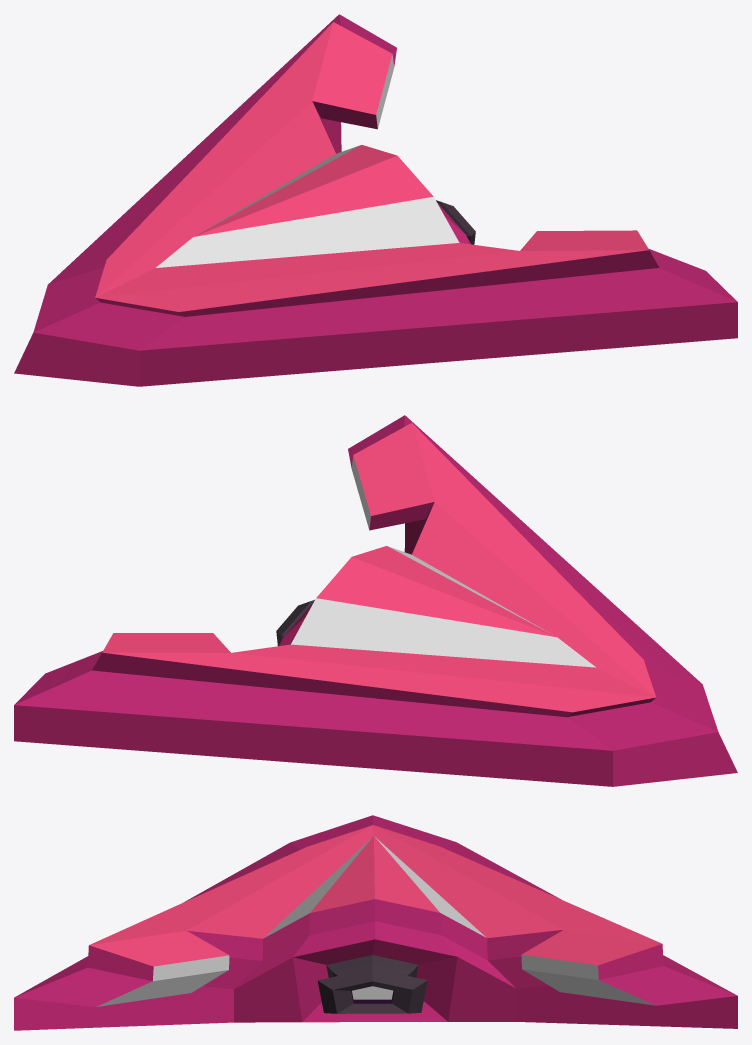
The model's file is nave 1.fbx.
The picture shows the model from 3 angles, top to bottom: view 1: azimuth 30°, elevation 25°; view 2: azimuth 150°, elevation 25°; view 3: azimuth 270°, elevation 25°; orthographic projection. The views are drawn at different scales.
Visible parts, largest first — view 1: Cube; view 2: Cube; view 3: Cube.
Boxes of the visible parts, x1=… form: Cube: x1=14, y1=14, x2=737, y2=386; Cube: x1=14, y1=415, x2=737, y2=786; Cube: x1=14, y1=815, x2=737, y2=1030.
Bounding box in the file's own units: 279 × 60.58 × 352.
